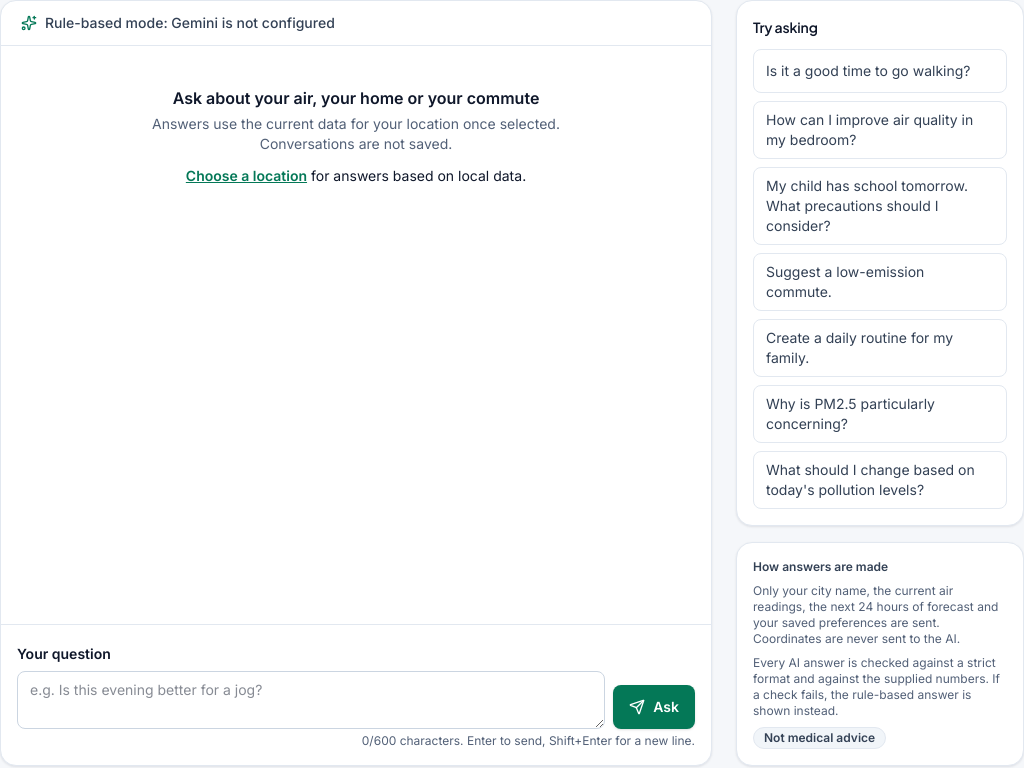
Test: AssistantChat › validates input length and emptiness
Click the button "Ask" at (654, 707), box [613,685,695,729]
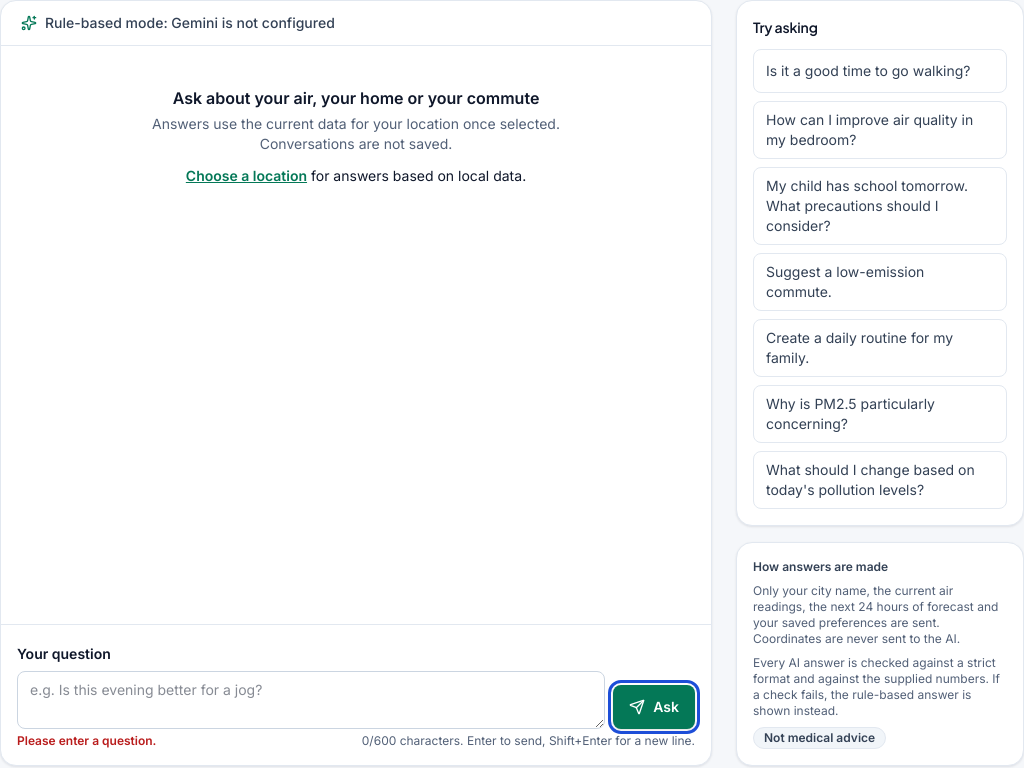
Result: the text "Please enter a question." is shown at [17,733,156,749]
